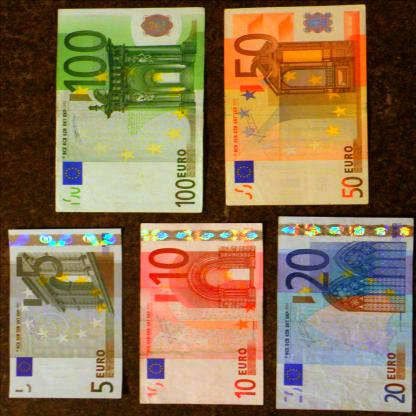euro_banknote: (28, 37, 233, 185), (197, 35, 396, 179), (249, 248, 416, 383), (112, 254, 293, 377)
